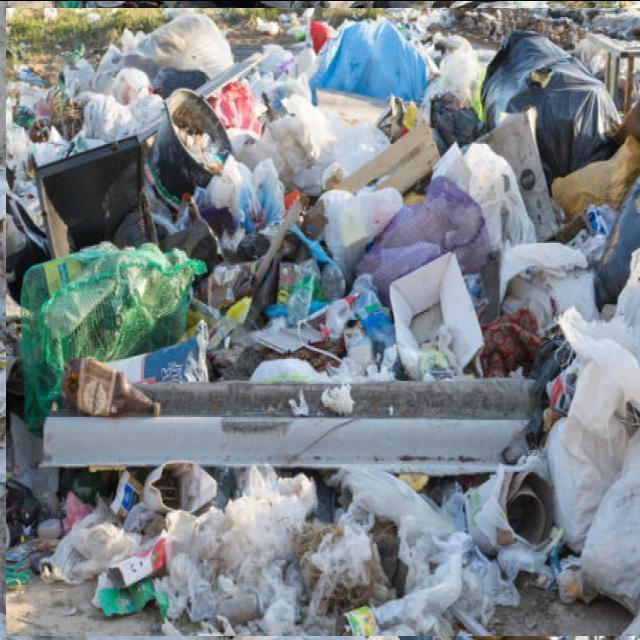Anorganik: (7, 2, 639, 638)
